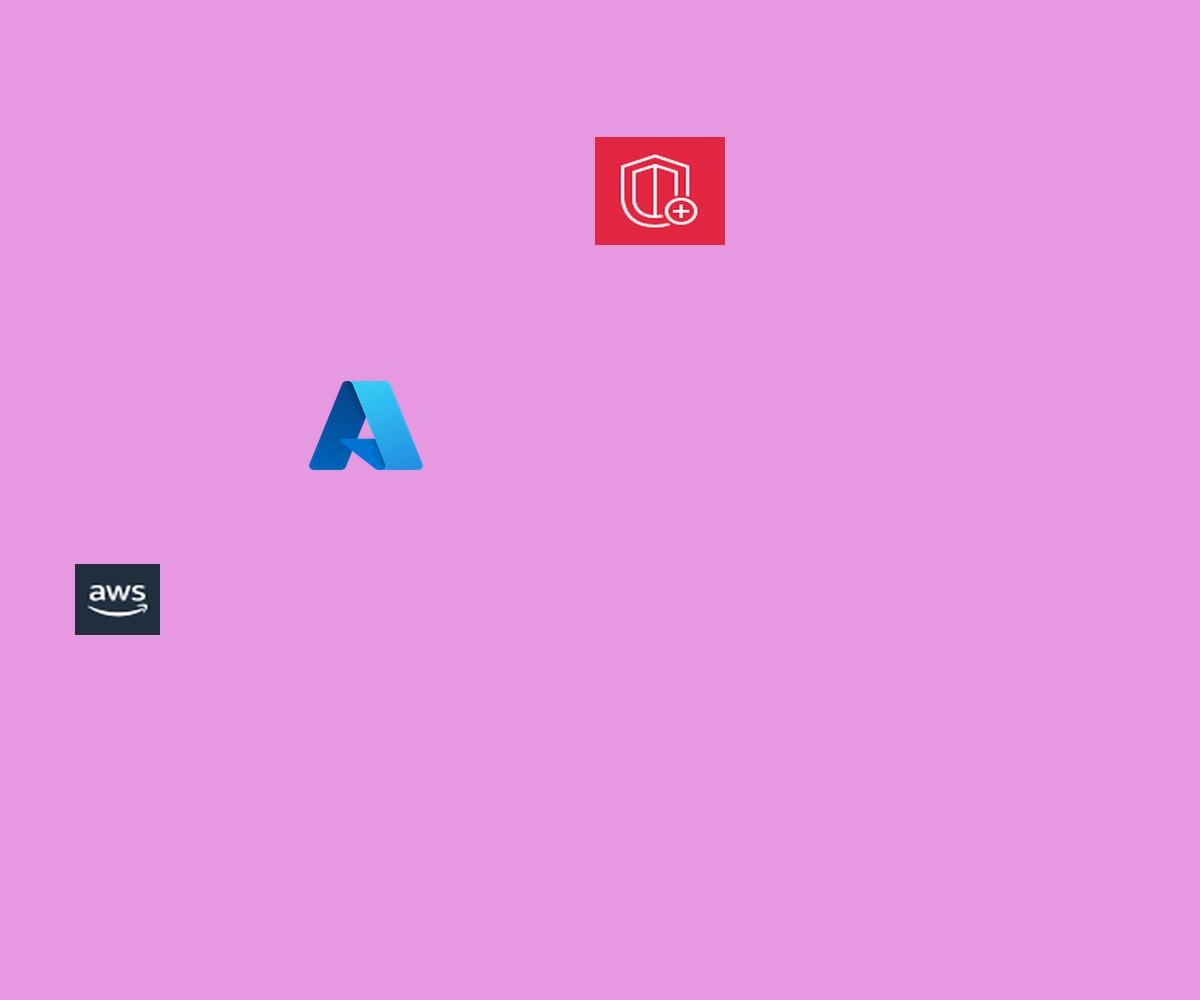AWS-Cloud-logo: (75, 564, 160, 635)
AWS-Shield: (595, 137, 725, 245)
Azure_services: (304, 374, 428, 477)
